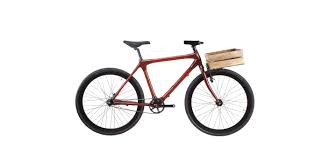bicycle: (70, 31, 262, 142)
